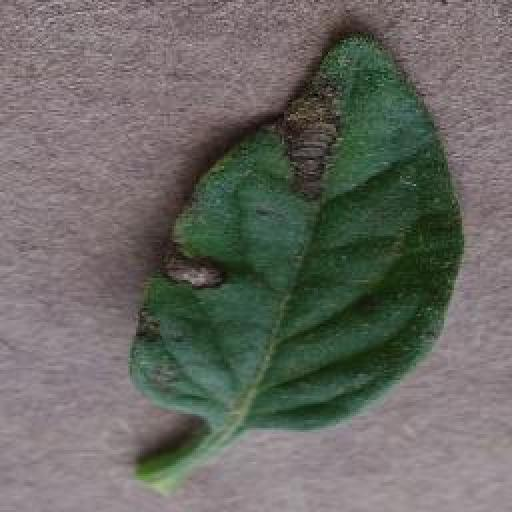Early Blight: (127, 28, 466, 435)
